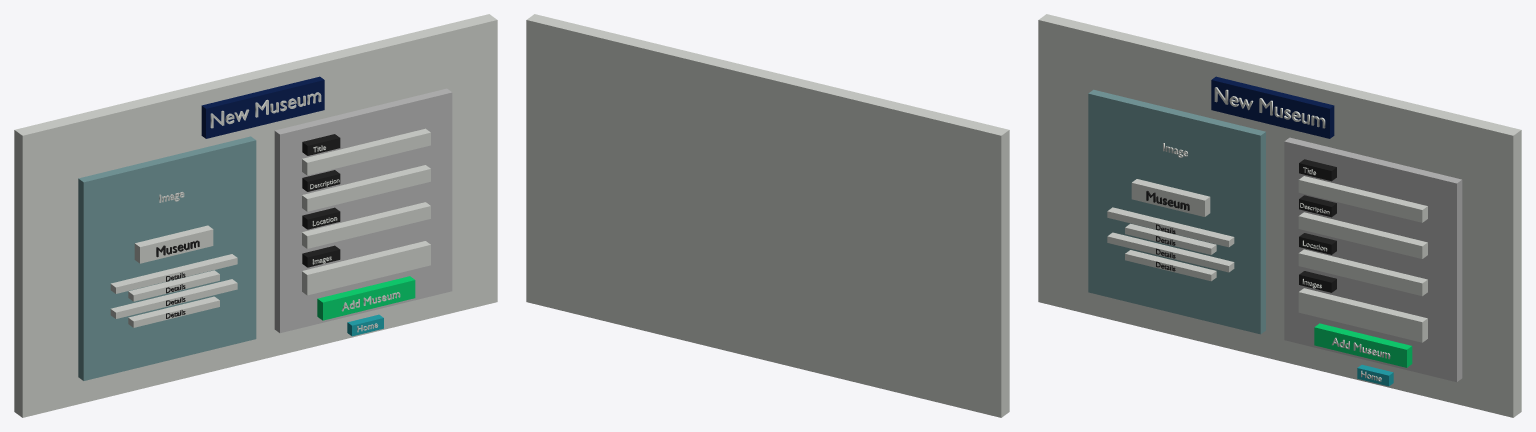
3 views of the same model, side by side, from view 1: azimuth 30°, elevation 25°; view 2: azimuth 150°, elevation 25°; view 3: azimuth 330°, elevation 25° (orthographic).
Parts seen in each view (by area): view 1: Cube.001, Text; view 2: Cube.001; view 3: Cube.001, Text.
Boxes of the visible parts, x1=… form: Cube.001: x1=14, y1=14, x2=497, y2=417; Text: x1=210, y1=92, x2=321, y2=128; Cube.001: x1=526, y1=14, x2=1009, y2=417; Cube.001: x1=1038, y1=14, x2=1521, y2=417; Text: x1=1214, y1=87, x2=1325, y2=128.
Size of the model in its own units: 20.92 by 11.88 by 1.64.
